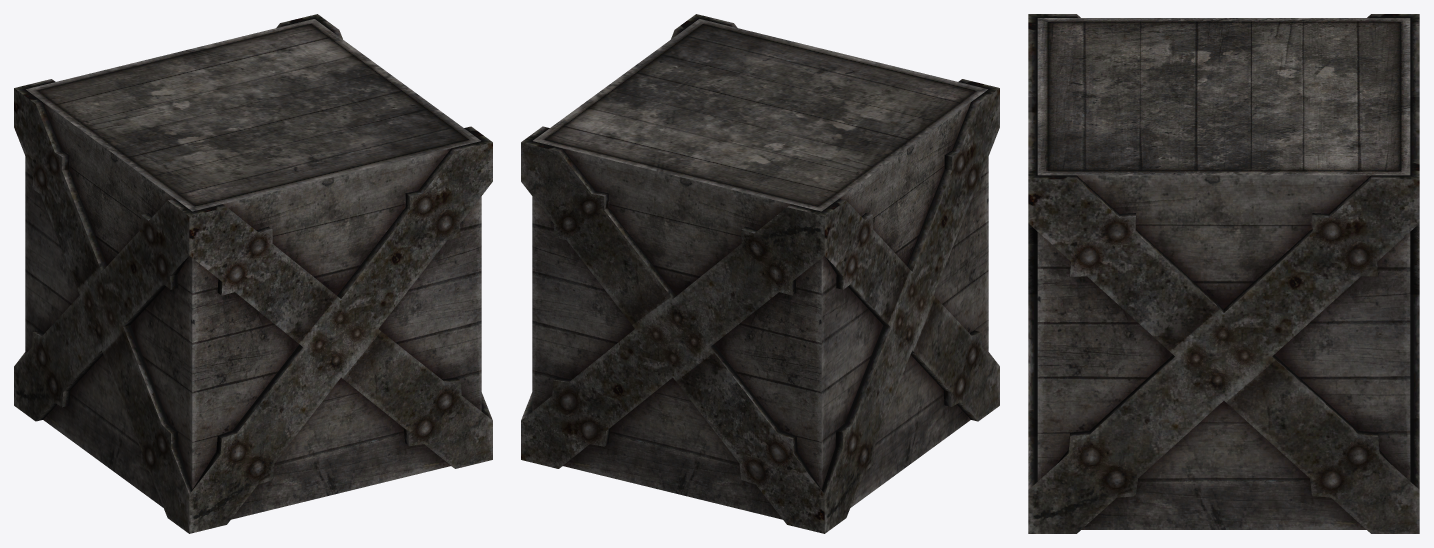
Rendered from storage_box_wood01.dae.
3 renders of one model, left to right at view 1: azimuth 30°, elevation 25°; view 2: azimuth 150°, elevation 25°; view 3: azimuth 270°, elevation 25°, orthographic. The views are drawn at different scales.
Visible parts, largest first — view 1: polySurface5; view 2: polySurface5; view 3: polySurface5.
Boxes of the visible parts, x1,y1,x2,y2 form: polySurface5: [14, 14, 492, 533]; polySurface5: [521, 14, 999, 533]; polySurface5: [1028, 14, 1419, 533].
Bounding box in the file's own units: 0.7 × 0.6997 × 0.7.
